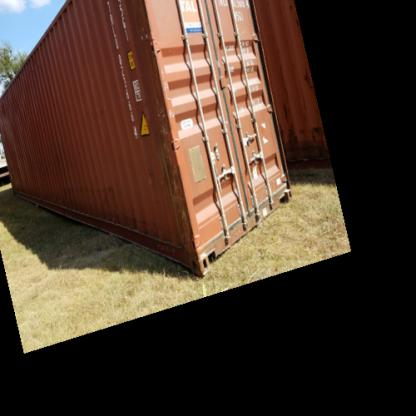Damage: (156, 96, 199, 253), (276, 102, 303, 152), (108, 210, 147, 233), (49, 181, 90, 193), (26, 51, 41, 73), (103, 174, 116, 199)
